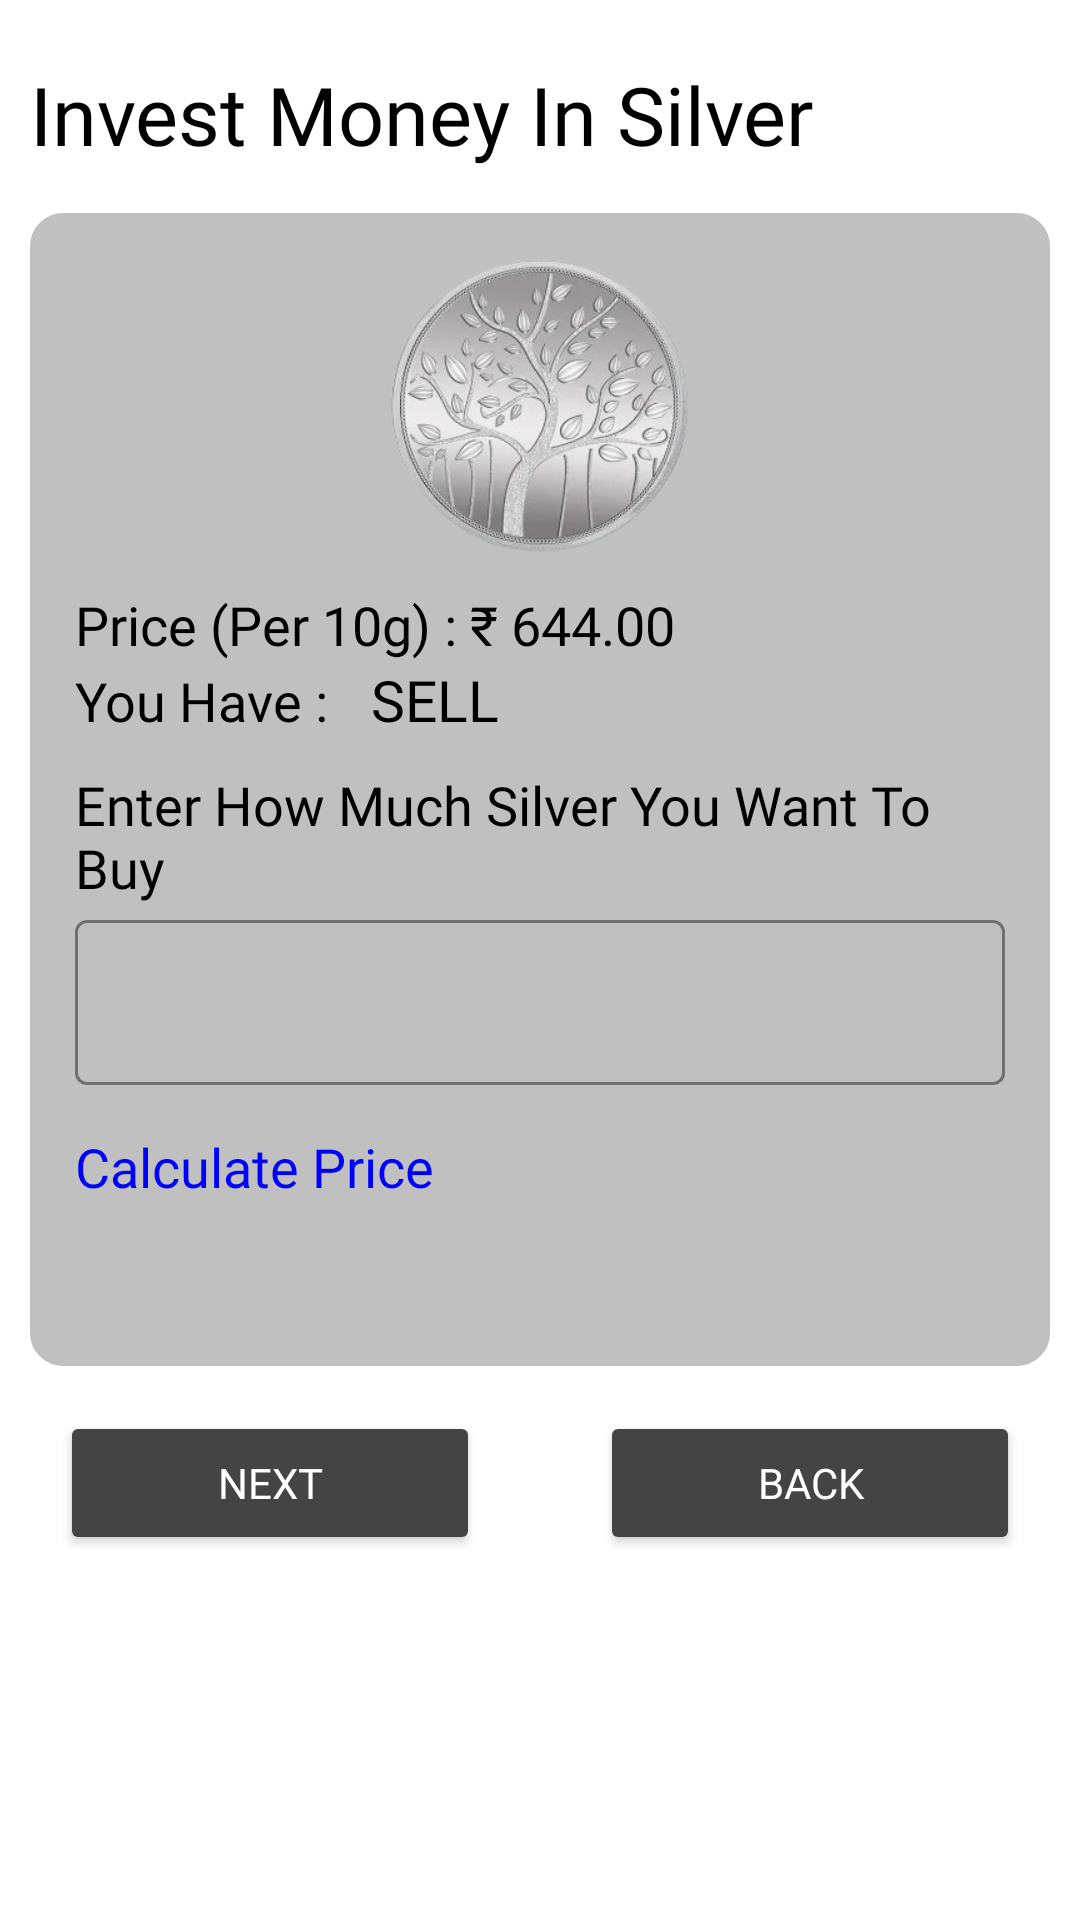

Point at icon controls on the screen. Image size 1080px×1920px, points as (x,y).
silver coin: (538,406)
